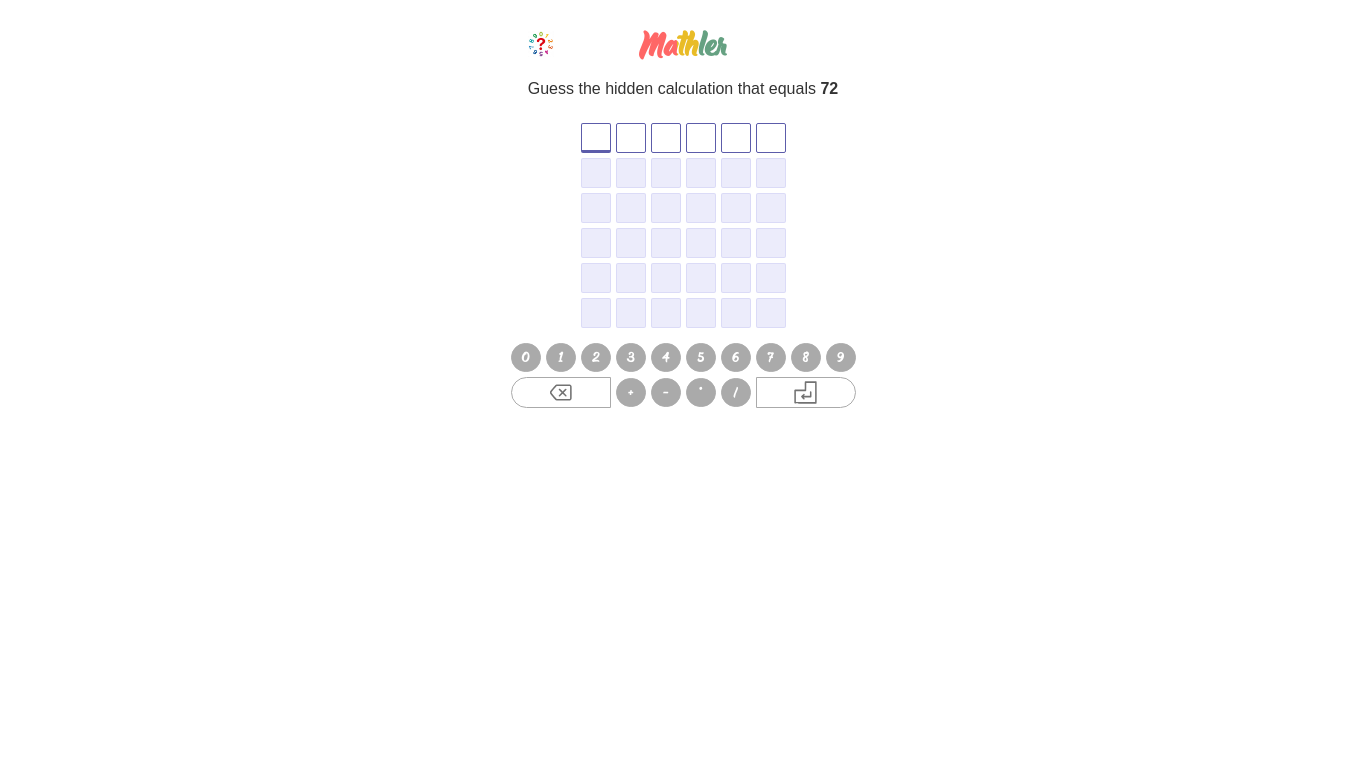
Mathler › game › displays help info in a modal after clicking logo button
Click the button with test id "help-button" at [541, 44], box [528,31,554,57]
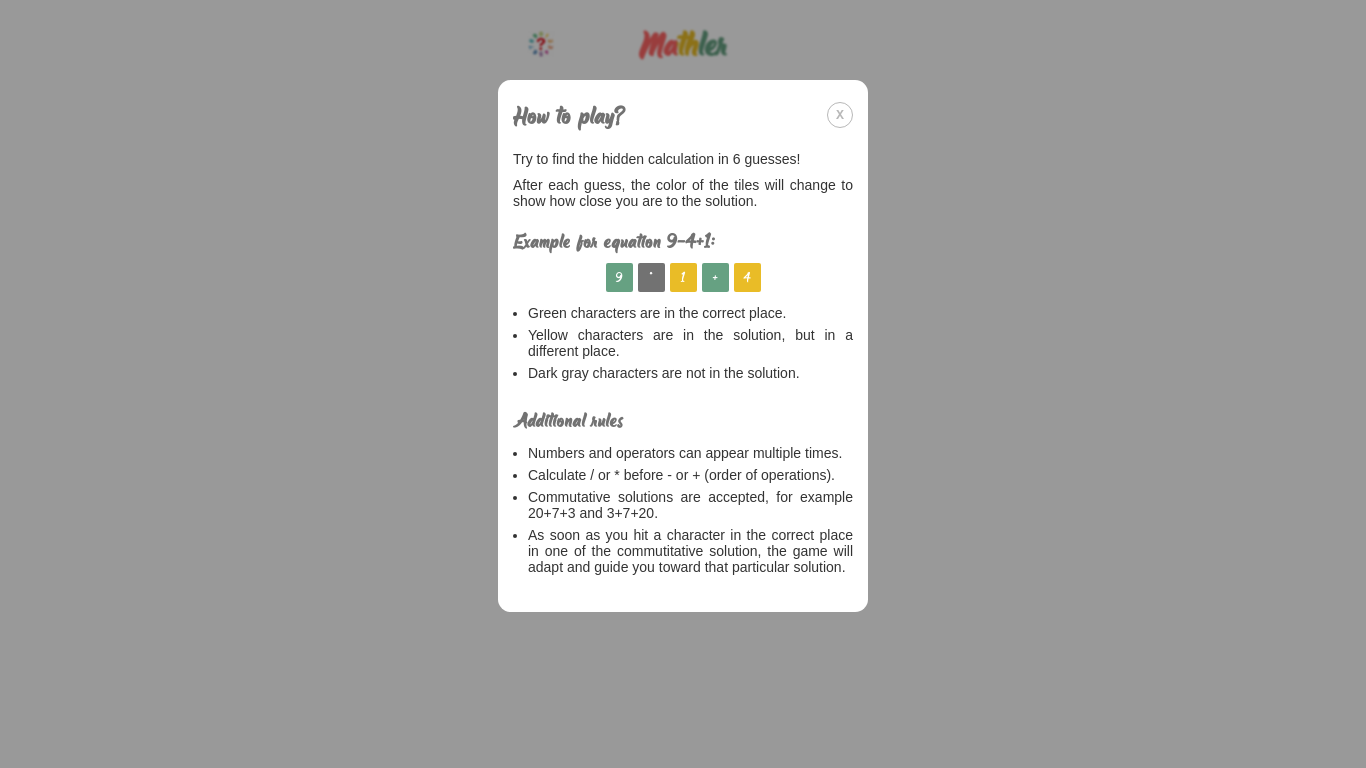
Check: the heading "How to play?" is shown, box [513,100,626,131]
